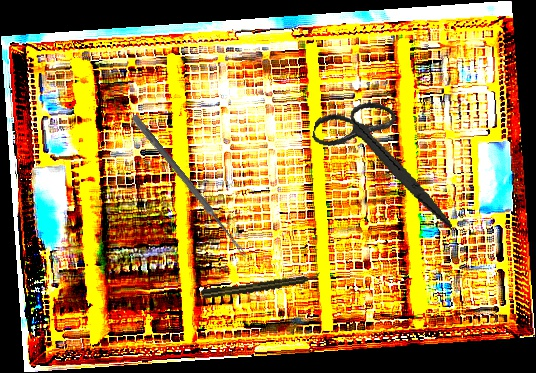Handpiece: (199, 272, 322, 300)
Iris Scissors: (299, 91, 474, 230)
Surgical Spoon: (130, 113, 249, 259)
